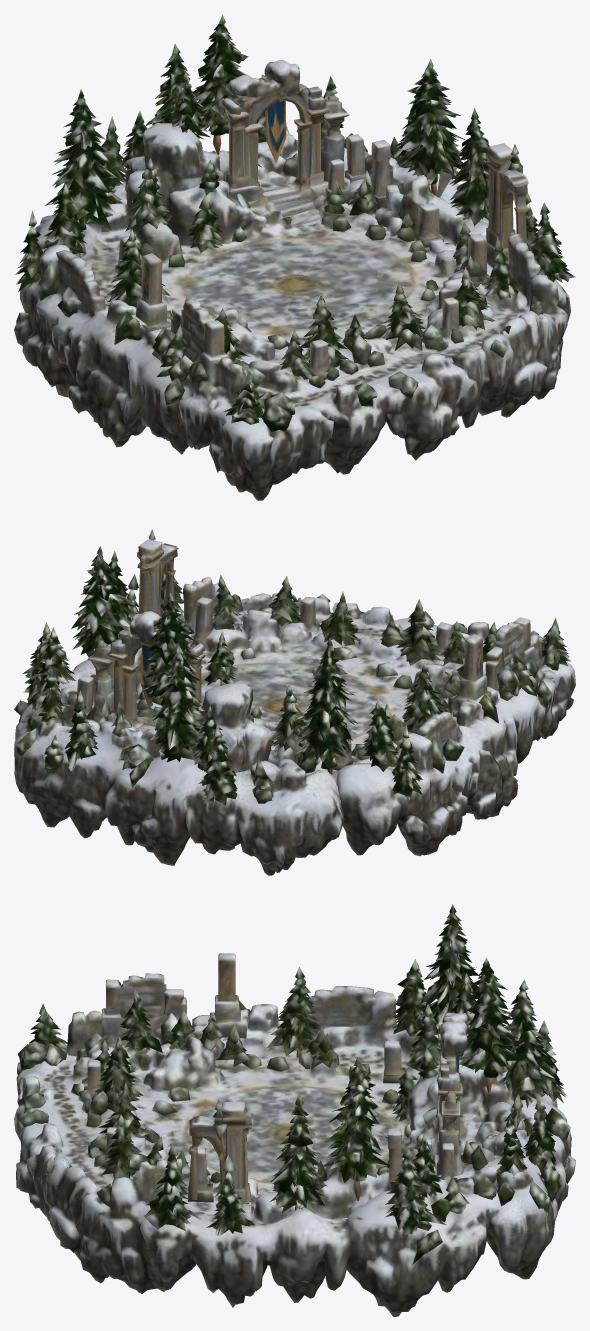
The model's file is snow.glb.
The picture shows the model from 3 angles, top to bottom: view 1: azimuth 30°, elevation 25°; view 2: azimuth 150°, elevation 25°; view 3: azimuth 270°, elevation 25°; orthographic projection. The views are drawn at different scales.
Visible parts, largest first — view 1: World normalization; view 2: World normalization; view 3: World normalization.
Part boxes in pixels (<box>): World normalization: <box>14,14,575,500</box>; World normalization: <box>14,529,575,875</box>; World normalization: <box>14,904,575,1316</box>.
Bounding box in the file's own units: 18.39 × 10.96 × 20.
1 material, 1 textured.
